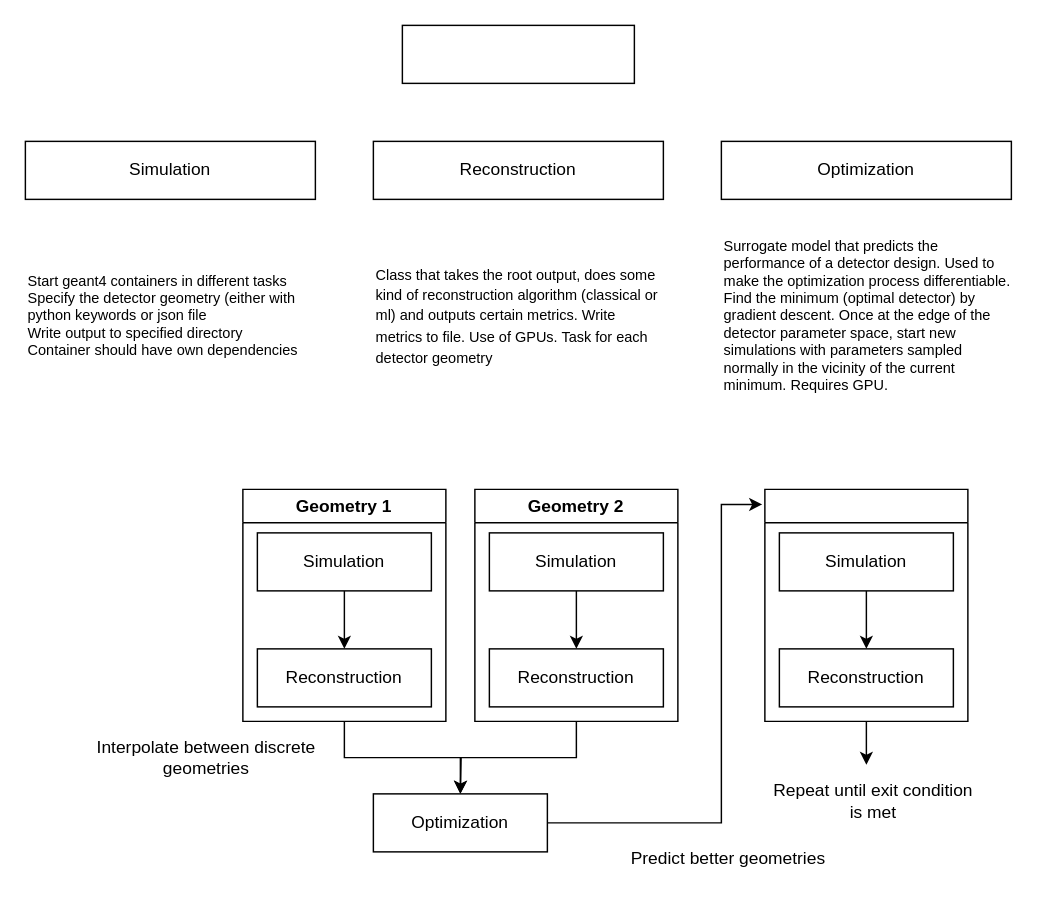
Image size: 1037x906. Some labels were removed from this diagram. The centre of each missing label's shape, as x and y in pixels:
"b2luigi WrapperTask" goes at [517,53].
"Geometry 3" goes at [865,604].
